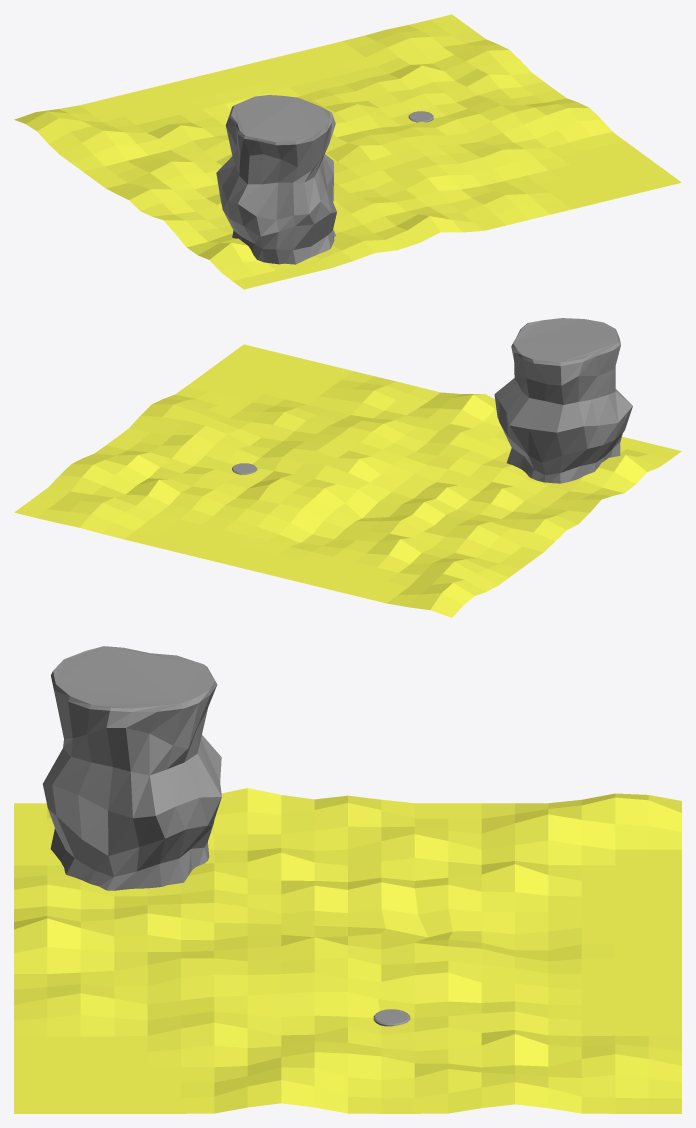
File: Escenario.FBX
The picture shows the model from 3 angles, top to bottom: view 1: azimuth 30°, elevation 25°; view 2: azimuth 150°, elevation 25°; view 3: azimuth 270°, elevation 25°; orthographic projection. The views are drawn at different scales.
Parts seen in each view (by area): view 1: Piso, Plataforma; view 2: Piso, Plataforma; view 3: Piso, Plataforma.
Part boxes in pixels (x1,y1,x2,y2): Piso: (14,14,681,289); Plataforma: (216,95,336,264); Piso: (14,344,681,617); Plataforma: (494,318,632,483); Piso: (14,788,681,1113); Plataforma: (42,646,221,890).
Bounding box in the file's own units: 362 × 105 × 329.
